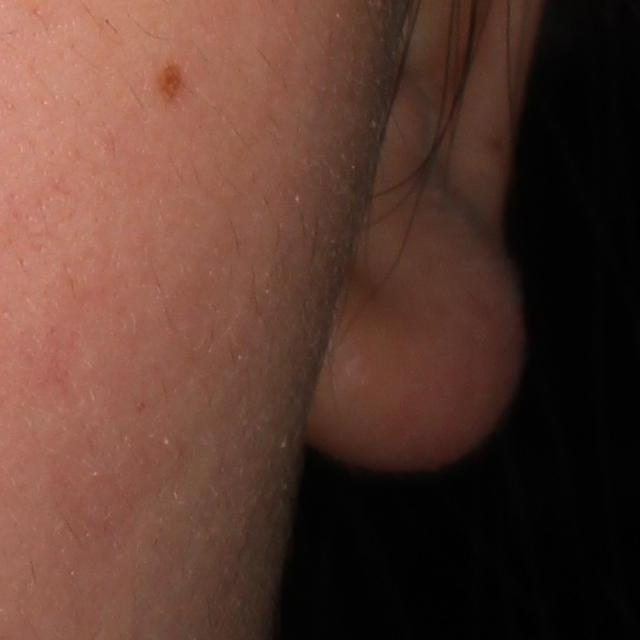nevus: (157, 60, 189, 106)
